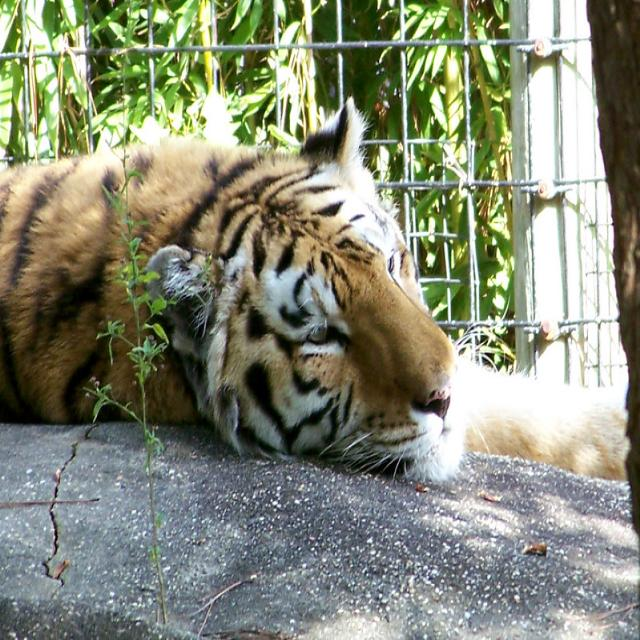Tiger: (0, 90, 630, 488)
